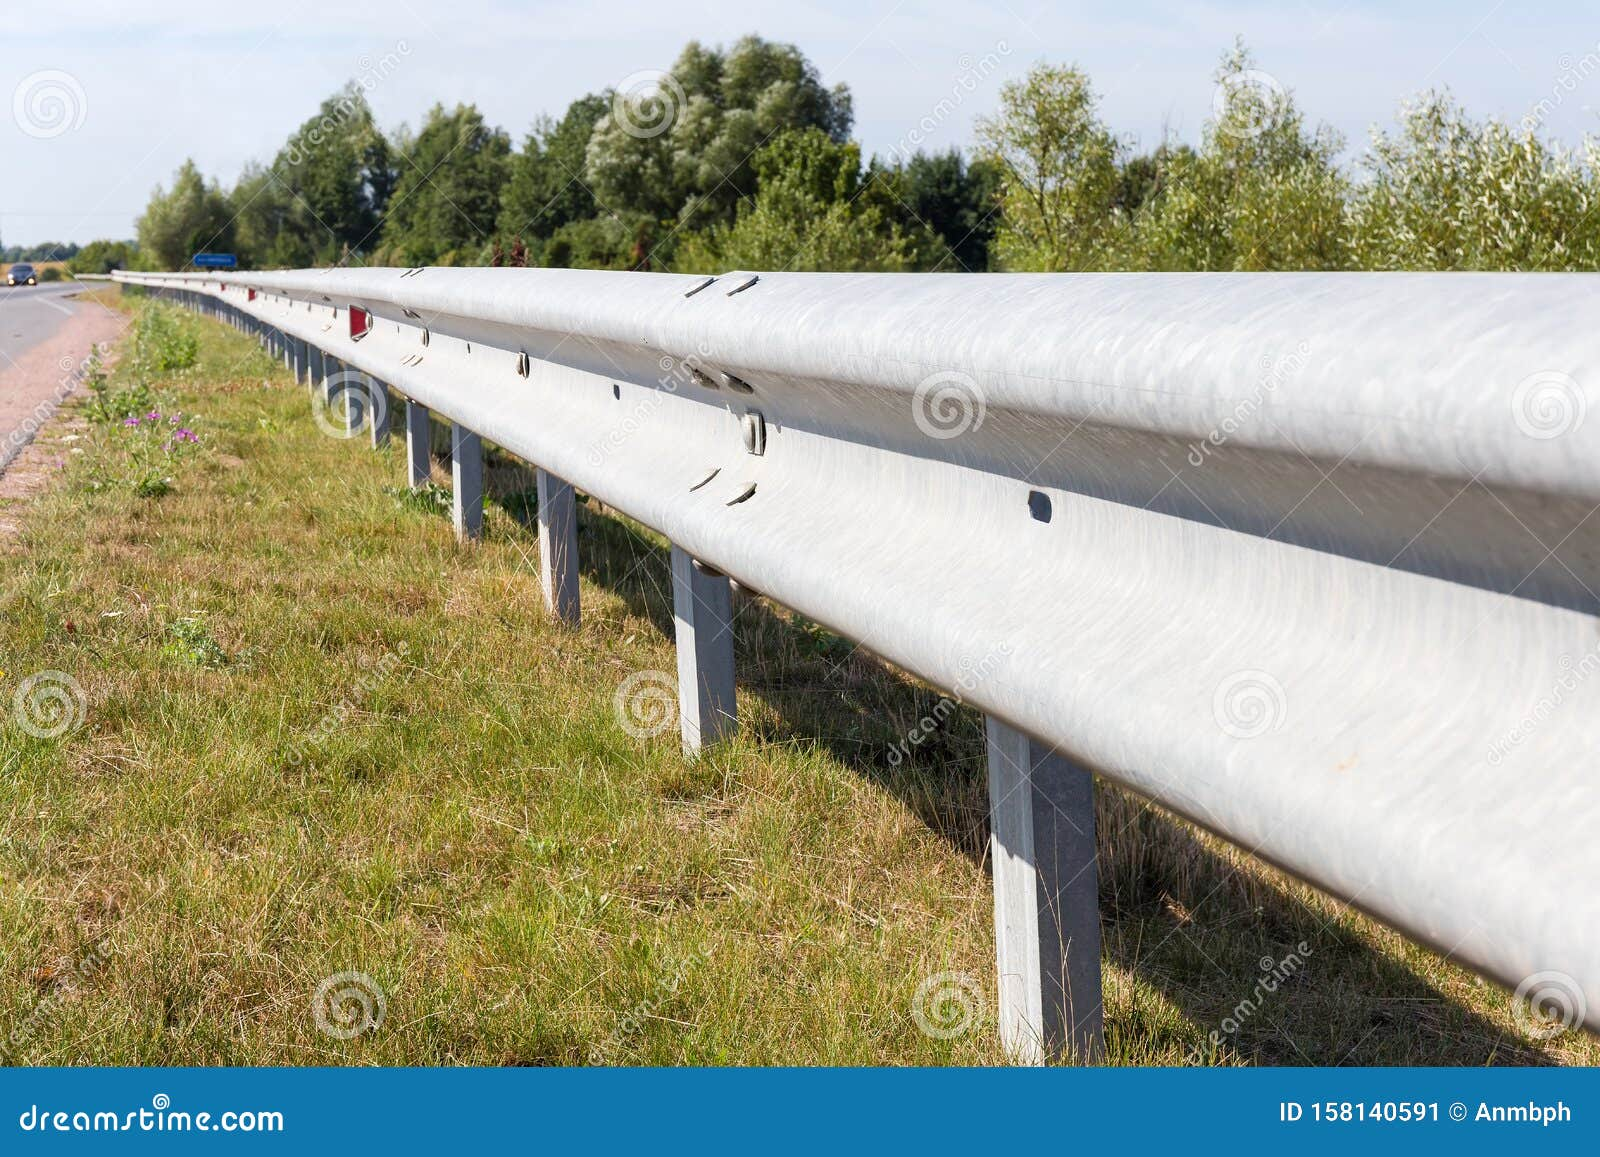not_damaged: (439, 237, 1569, 821)
